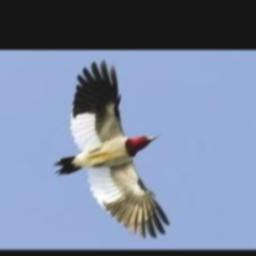Woodpecker: (53, 59, 169, 238)
